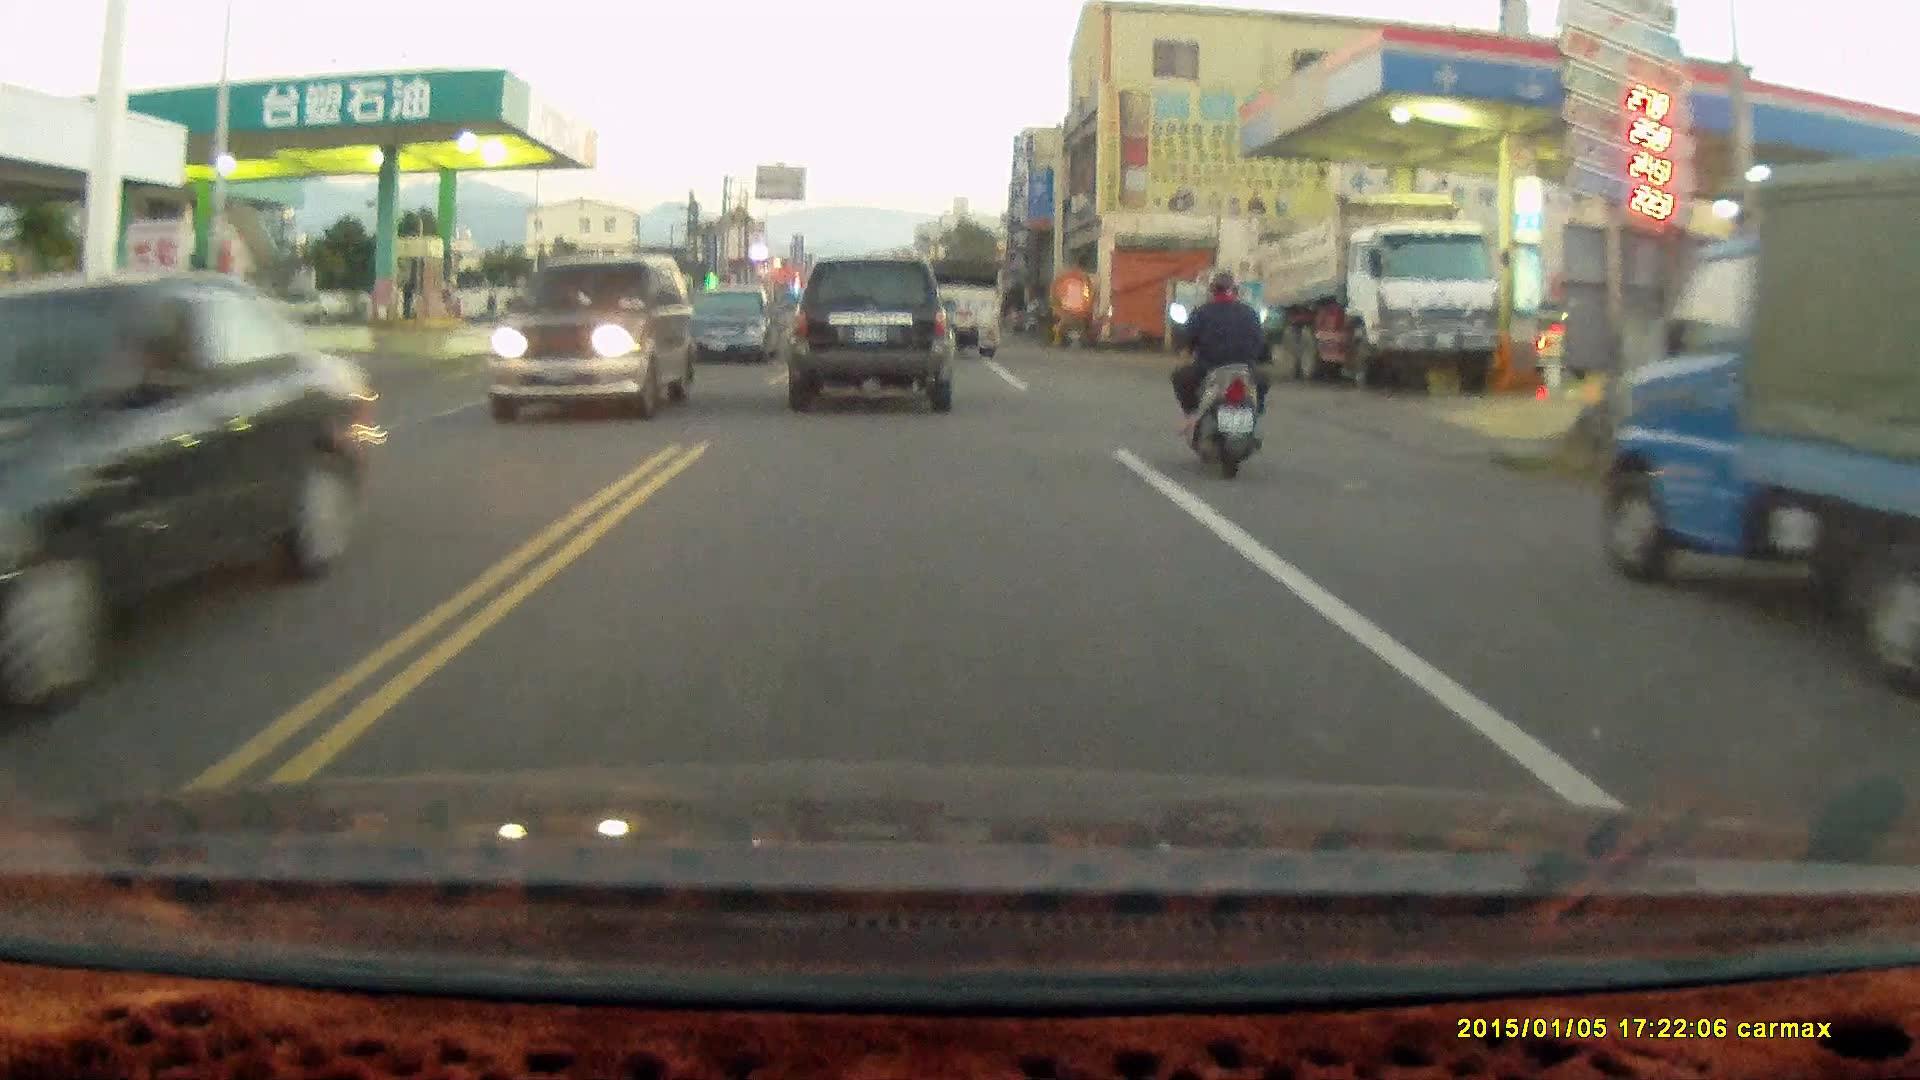rider: (1165, 268, 1272, 482)
vehicle: (1597, 153, 1920, 685), (1, 266, 375, 724), (1249, 189, 1501, 392), (487, 245, 689, 420), (790, 255, 954, 411), (911, 258, 1004, 360), (684, 282, 784, 364)
